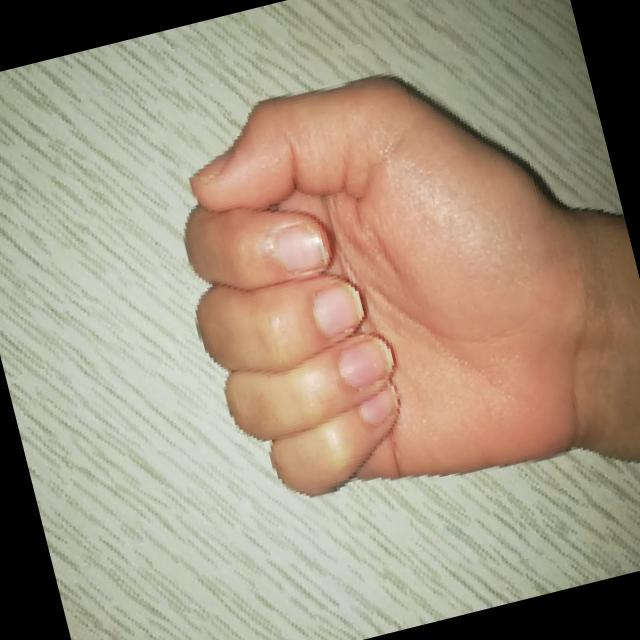Nail: (337, 336, 393, 387), (310, 281, 362, 333), (274, 222, 326, 270), (357, 382, 397, 424), (192, 148, 230, 182)
